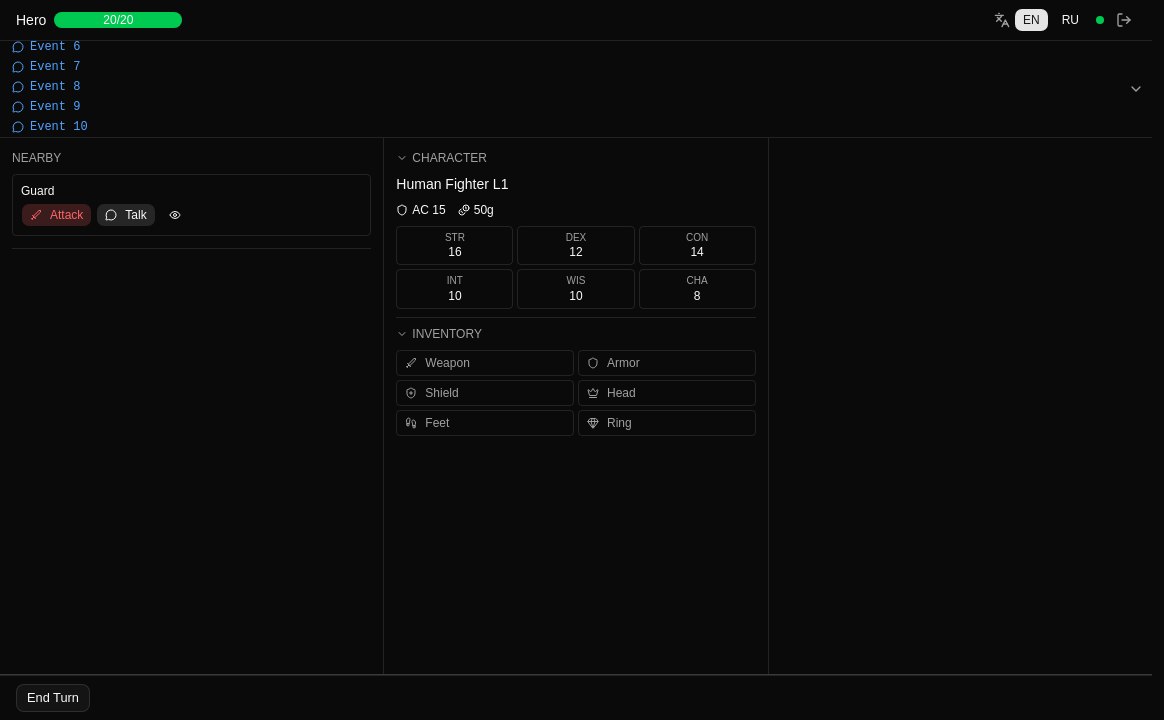
Test: GameScreen — log expand overlay › close button dismisses overlay
(page scrolled)
Click the button with test id "log-expand-btn" at (1136, 89), box left=1120, top=41, right=1152, bottom=137
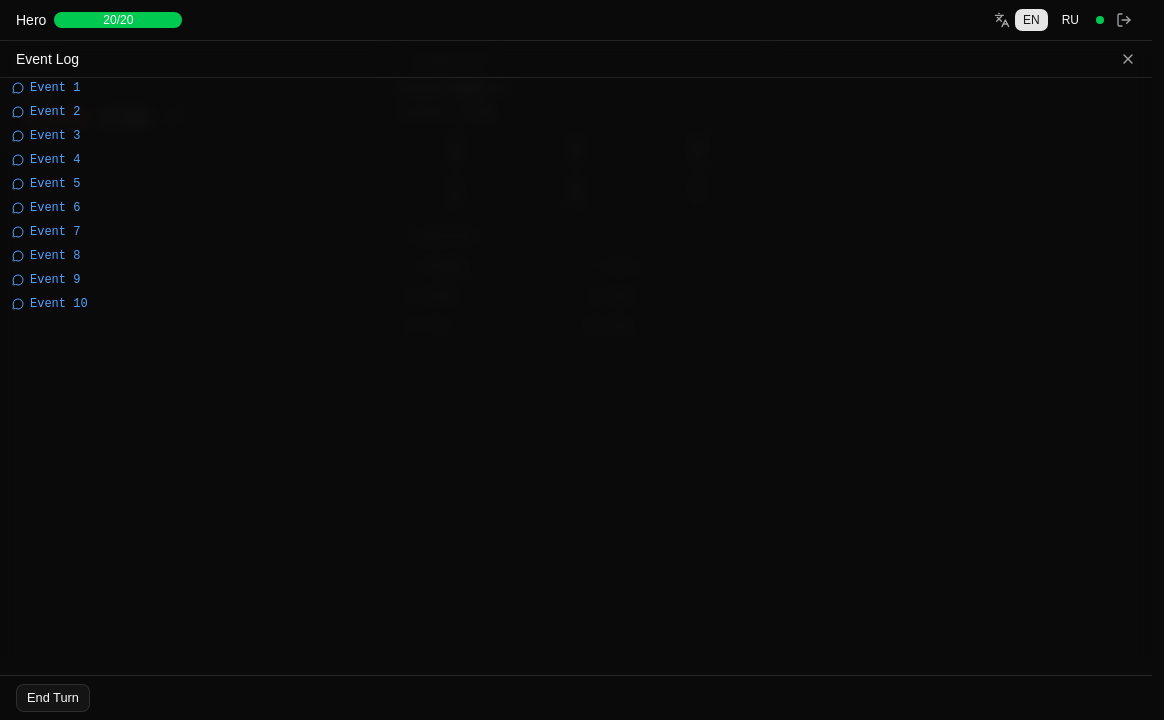
Check: the element with test id "log-overlay" is shown
Click the button with test id "log-overlay-close" at (1128, 59), box left=1120, top=51, right=1136, bottom=67
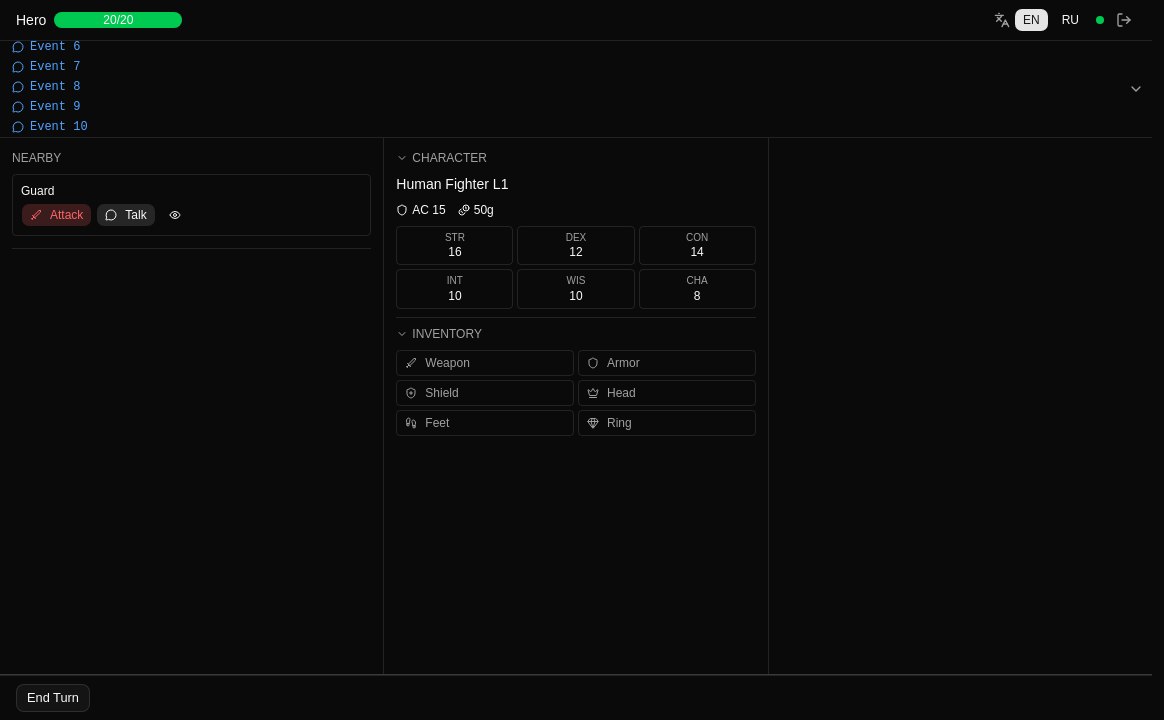
Check: the element with test id "log-overlay" is gone
